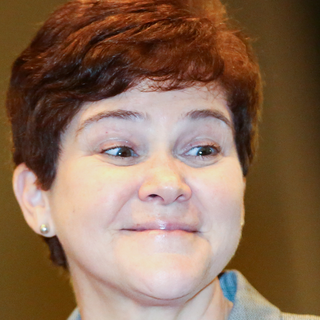eye: (93, 140, 142, 165), (181, 140, 225, 164)
